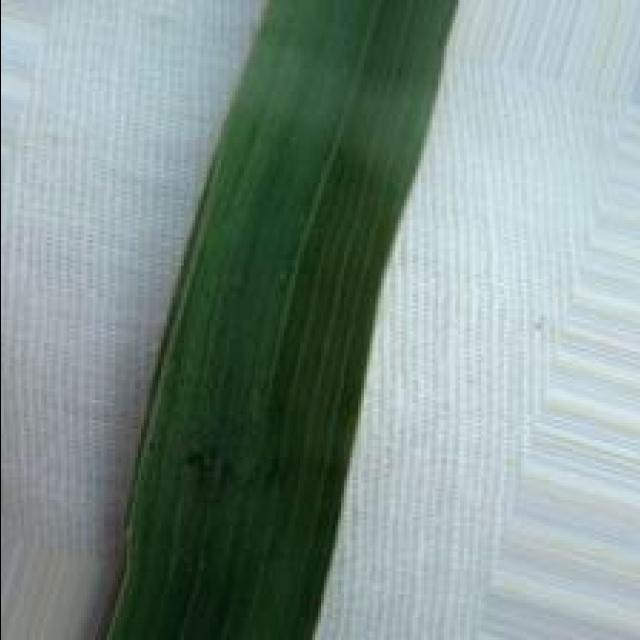Healthy: (93, 0, 456, 640)
